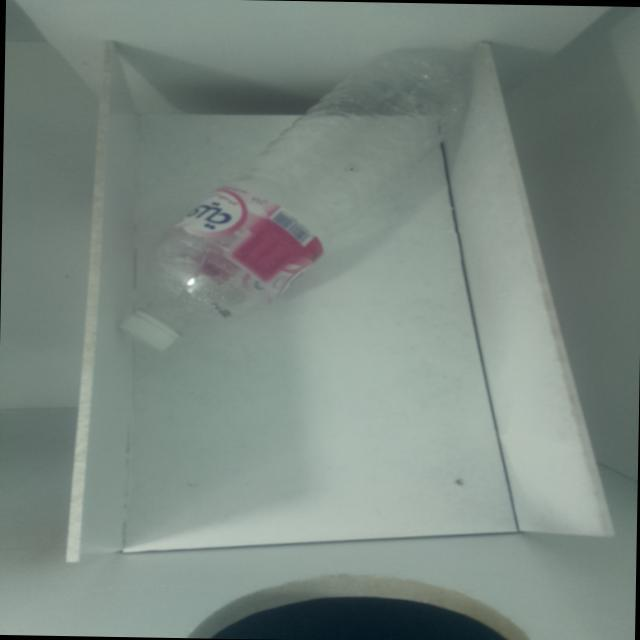good: (99, 24, 495, 373)
